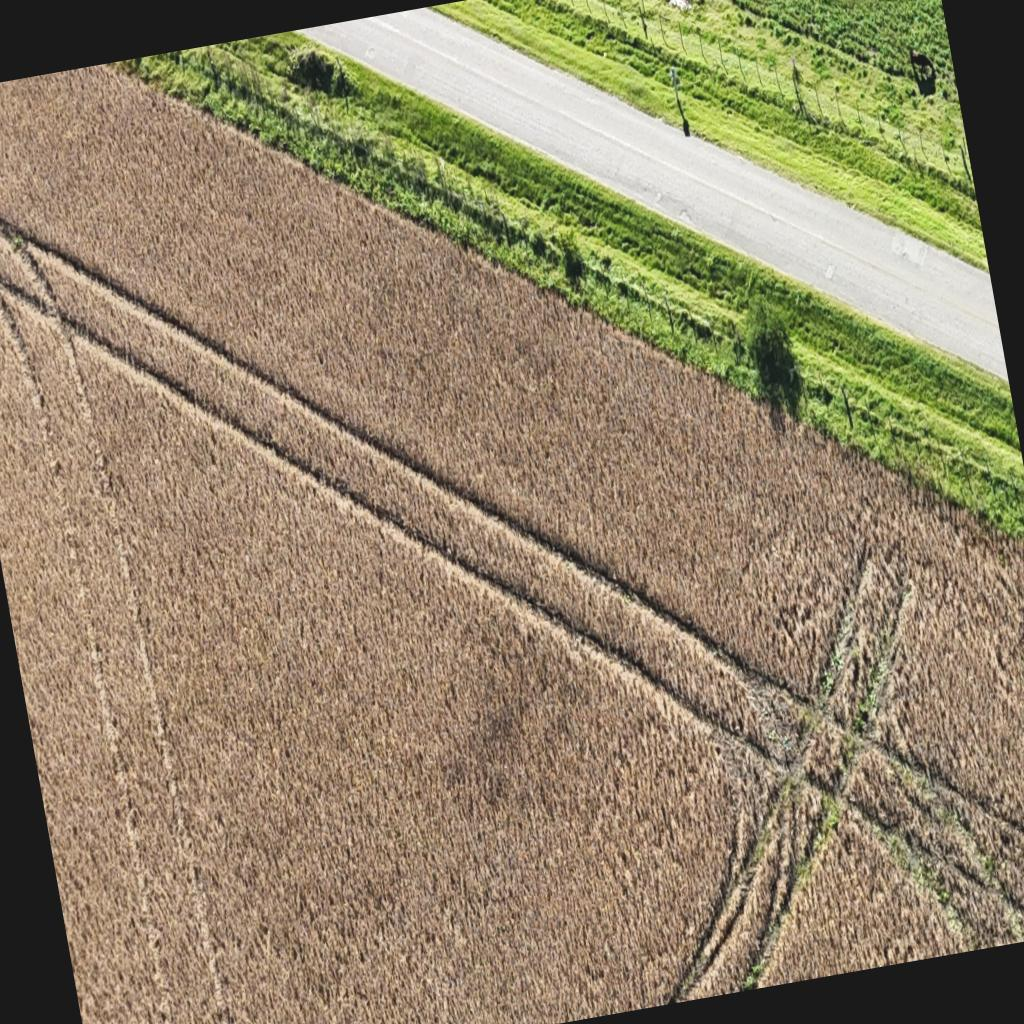cow: (906, 40, 938, 86)
